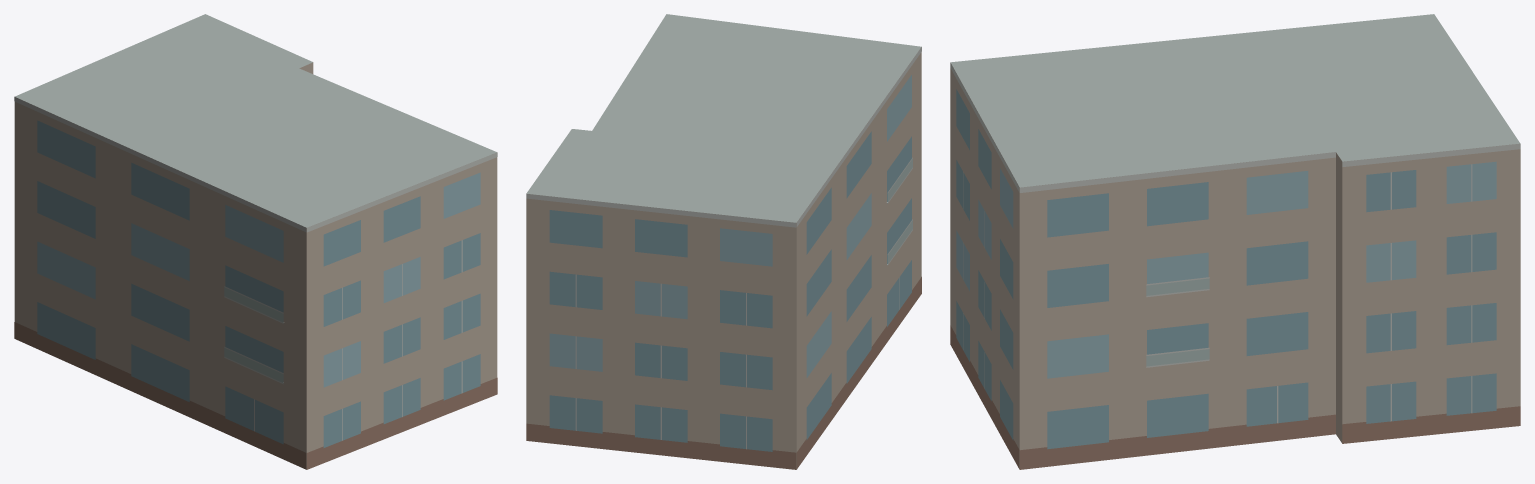
File: survey-upis-32693651.glb
3 renders of one model, left to right at view 1: azimuth 30°, elevation 25°; view 2: azimuth 150°, elevation 25°; view 3: azimuth 270°, elevation 25°, orthographic. The views are drawn at different scales.
Visible parts, largest first — view 1: survey-upis-32693651.tmp; view 2: survey-upis-32693651.tmp; view 3: survey-upis-32693651.tmp.
Part boxes in pixels (<box>): survey-upis-32693651.tmp: <box>14,14,497,469</box>; survey-upis-32693651.tmp: <box>526,14,921,469</box>; survey-upis-32693651.tmp: <box>950,14,1520,469</box>.
Bounding box in the file's own units: 16.37 × 12.4 × 22.71.
